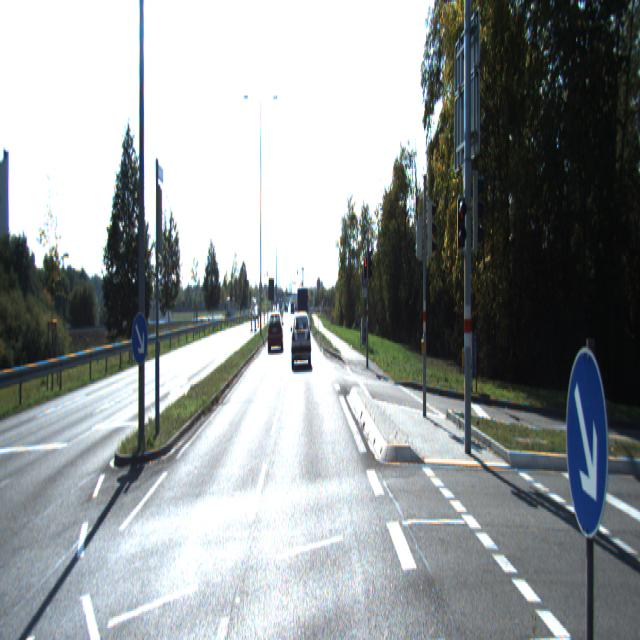Car: (291, 314, 311, 367), (267, 316, 284, 358), (297, 286, 309, 339)
